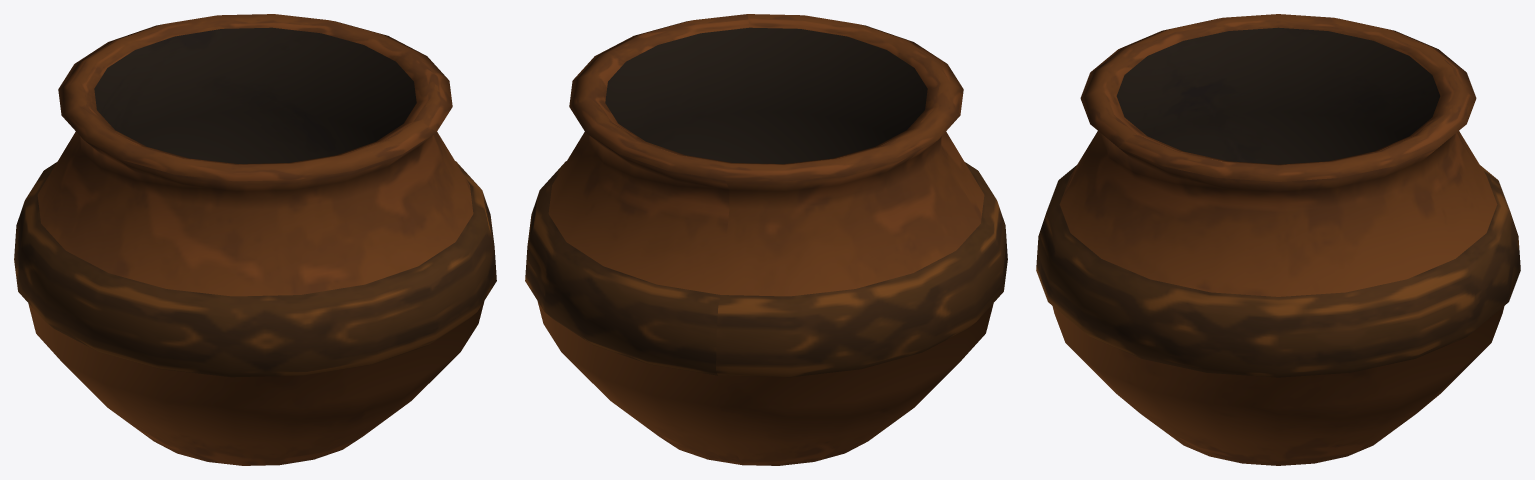
The model's file is Vase_2.gltf.
3 views of the same model, side by side, from view 1: azimuth 30°, elevation 25°; view 2: azimuth 150°, elevation 25°; view 3: azimuth 270°, elevation 25° (orthographic).
Parts seen in each view (by area): view 1: Vase_2; view 2: Vase_2; view 3: Vase_2.
Boxes of the visible parts, x1,y1,x2,y2 form: Vase_2: (14,14,496,465); Vase_2: (525,14,1007,465); Vase_2: (1036,14,1520,465).
Size of the model in its own units: 0.6947 by 0.5163 by 0.6947.
1 material, 1 textured.
